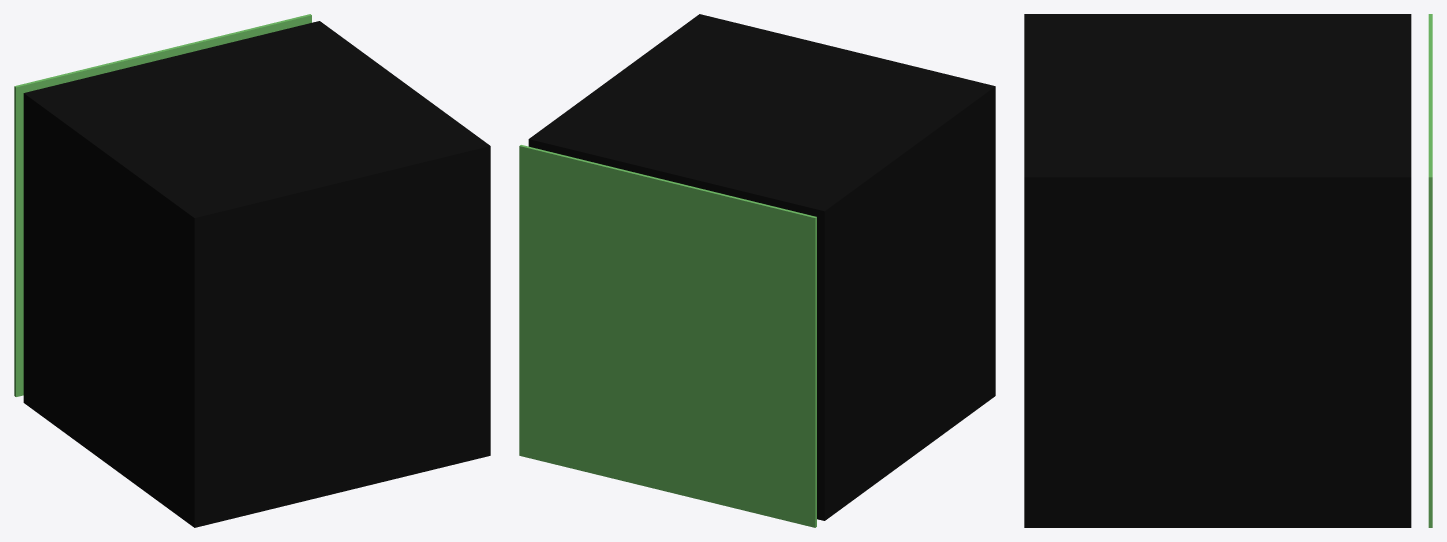
3 renders of one model, left to right at view 1: azimuth 30°, elevation 25°; view 2: azimuth 150°, elevation 25°; view 3: azimuth 270°, elevation 25°, orthographic. The views are drawn at different scales.
Parts seen in each view (by area): view 1: Cube, blue-3; view 2: Cube, blue-3; view 3: Cube, blue-3.
Part boxes in pixels (bbox=[...]): Cube: bbox=[23, 21, 490, 527]; blue-3: bbox=[14, 14, 311, 396]; Cube: bbox=[528, 14, 995, 520]; blue-3: bbox=[519, 145, 816, 527]; Cube: bbox=[1024, 14, 1411, 527]; blue-3: bbox=[1428, 14, 1432, 527].
Bounding box in the file's own units: 2 × 2 × 2.11.
